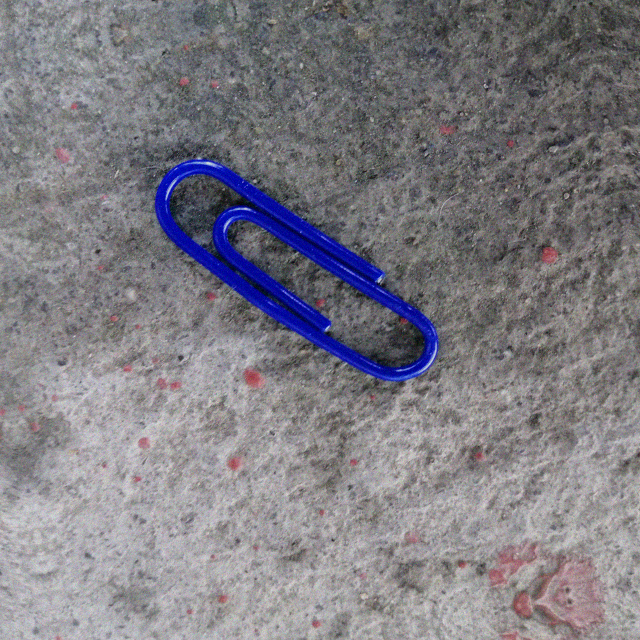pin: (150, 111, 439, 423)
